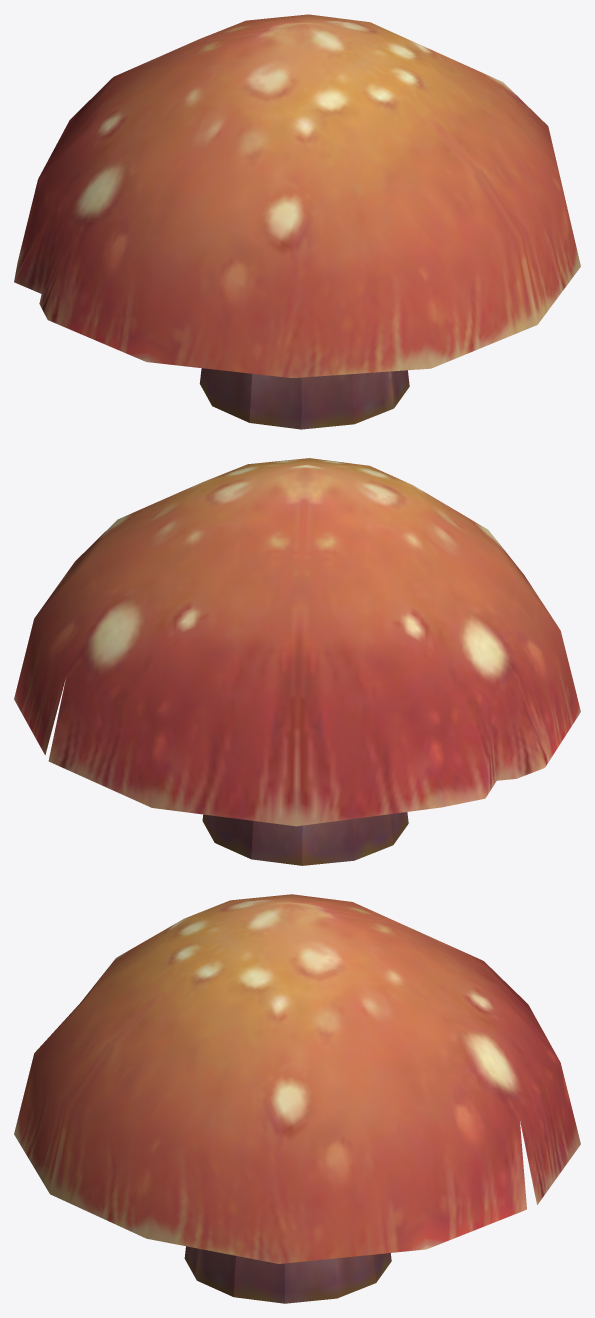
File: gonghui_mogu_03 (12).fbx
3 views of the same model, one above another, from view 1: azimuth 30°, elevation 25°; view 2: azimuth 150°, elevation 25°; view 3: azimuth 270°, elevation 25° (orthographic).
Parts seen in each view (by area): view 1: gonghui_mogu_03 (12); view 2: gonghui_mogu_03 (12); view 3: gonghui_mogu_03 (12).
Part boxes in pixels (bbox=[...]): gonghui_mogu_03 (12): bbox=[14, 14, 580, 429]; gonghui_mogu_03 (12): bbox=[14, 458, 580, 865]; gonghui_mogu_03 (12): bbox=[14, 894, 580, 1303].
Size of the model in its own units: 0.3047 by 0.2067 by 0.299.
